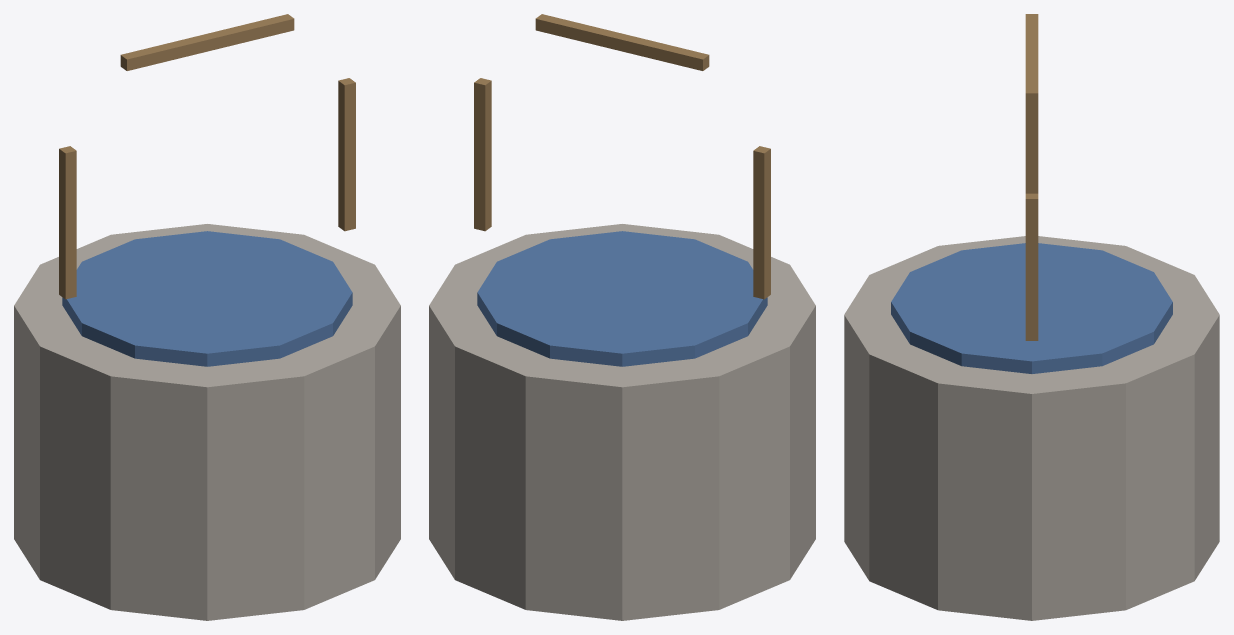
The model's file is village_well.glb.
3 renders of one model, left to right at view 1: azimuth 30°, elevation 25°; view 2: azimuth 150°, elevation 25°; view 3: azimuth 270°, elevation 25°, orthographic. The views are drawn at different scales.
Parts seen in each view (by area): view 1: village_well_base, village_well_inner, village_well_bar, village_well_pole.001, village_well_pole; view 2: village_well_base, village_well_inner, village_well_bar, village_well_pole.001, village_well_pole; view 3: village_well_base, village_well_inner, village_well_pole.001, village_well_bar, village_well_pole.
Part boxes in pixels (left/top/right/bottom): village_well_base: left=14, top=224, right=400, bottom=620; village_well_inner: left=62, top=231, right=352, bottom=366; village_well_bar: left=120, top=14, right=294, bottom=70; village_well_pole.001: left=338, top=78, right=355, bottom=231; village_well_pole: left=59, top=146, right=76, bottom=299; village_well_base: left=429, top=224, right=815, bottom=620; village_well_inner: left=477, top=231, right=767, bottom=366; village_well_bar: left=535, top=14, right=709, bottom=70; village_well_pole.001: left=474, top=78, right=491, bottom=231; village_well_pole: left=753, top=146, right=770, bottom=299; village_well_base: left=844, top=236, right=1219, bottom=620; village_well_inner: left=891, top=243, right=1172, bottom=373; village_well_pole.001: left=1025, top=193, right=1038, bottom=340; village_well_bar: left=1025, top=14, right=1038, bottom=104; village_well_pole: left=1025, top=104, right=1038, bottom=193.
Size of the model in its own units: 1.2 by 1.73 by 1.2.
